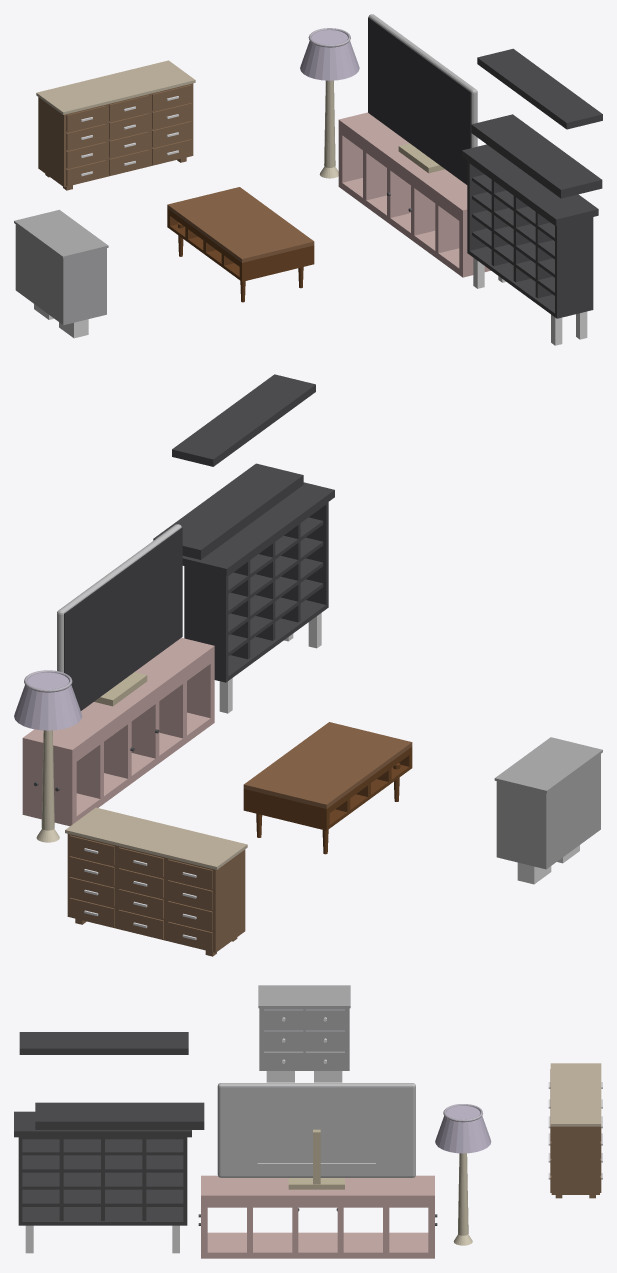
The model's file is previous_scene.glb.
3 renders of one model, top to bottom at view 1: azimuth 30°, elevation 25°; view 2: azimuth 150°, elevation 25°; view 3: azimuth 270°, elevation 25°, orthographic. The views are drawn at different scales.
Parts seen in each view (by area): view 1: cubby_unit, dresser_12drawer, console, tv, coffee_table, cabinet, slab_b, slab_a, floor_lamp; view 2: dresser_12drawer, cubby_unit, console, tv, coffee_table, cabinet, slab_b, slab_a, floor_lamp; view 3: tv, cubby_unit, console, cabinet, dresser_12drawer, slab_b, slab_a, floor_lamp.
Part boxes in pixels (left/top/right/bottom): cubby_unit: left=462, top=144, right=598, bottom=345; dresser_12drawer: left=36, top=60, right=195, bottom=190; console: left=338, top=112, right=490, bottom=277; tv: left=368, top=14, right=477, bottom=184; coffee_table: left=167, top=187, right=314, bottom=302; cabinet: left=14, top=209, right=108, bottom=338; slab_b: left=471, top=114, right=602, bottom=198; slab_a: left=477, top=48, right=602, bottom=129; floor_lamp: left=300, top=28, right=359, bottom=178; dresser_12drawer: left=65, top=807, right=247, bottom=956; cubby_unit: left=182, top=482, right=334, bottom=713; console: left=22, top=637, right=214, bottom=826; tv: left=57, top=524, right=182, bottom=710; coffee_table: left=243, top=722, right=412, bottom=854; cabinet: left=494, top=737, right=602, bottom=884; slab_b: left=153, top=463, right=303, bottom=559; slab_a: left=172, top=374, right=315, bottom=466; floor_lamp: left=14, top=670, right=82, bottom=842; tv: left=217, top=1083, right=415, bottom=1189; cubby_unit: left=14, top=1111, right=191, bottom=1253; console: left=198, top=1175, right=437, bottom=1258; cabinet: left=258, top=985, right=350, bottom=1082; dresser_12drawer: left=548, top=1063, right=602, bottom=1198; slab_b: left=35, top=1102, right=204, bottom=1129; slab_a: left=19, top=1032, right=188, bottom=1054; floor_lamp: left=435, top=1104, right=491, bottom=1245.
Bounding box in the file's own units: 4.07 × 2.06 × 5.23.
